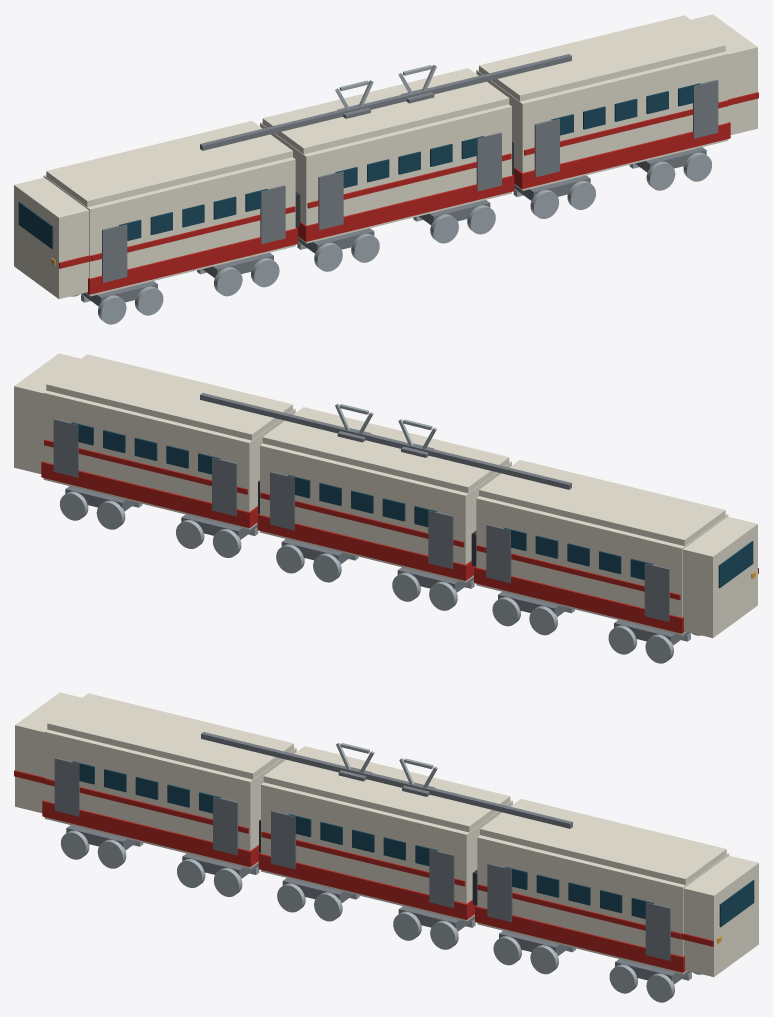
Rendered from CR400AF_emu.glb.
The picture shows the model from 3 angles, top to bottom: view 1: azimuth 30°, elevation 25°; view 2: azimuth 150°, elevation 25°; view 3: azimuth 330°, elevation 25°; orthographic projection.
Parts seen in each view (by area): view 1: CR400AF_Car_Body_03, CR400AF_Car_Body_02, CR400AF_Car_Body_01, CR400AF_Roof_01, CR400AF_Roof_03, CR400AF_Roof_02, CR400AF_Nose_Front, CR400AF_Nose_Rear, CR400AF_Car_Lower_Skirt_03, CR400AF_Car_Lower_Skirt_02, CR400AF_Car_Lower_Skirt_01, CR400AF_Roof_Main_Bus (+28 smaller); view 2: CR400AF_Car_Body_03, CR400AF_Car_Body_02, CR400AF_Car_Body_01, CR400AF_Roof_01, CR400AF_Roof_03, CR400AF_Roof_02, CR400AF_Nose_Front, CR400AF_Nose_Rear, CR400AF_Car_Lower_Skirt_03, CR400AF_Car_Lower_Skirt_02, CR400AF_Car_Lower_Skirt_01, CR400AF_Roof_Main_Bus (+28 smaller); view 3: CR400AF_Car_Body_01, CR400AF_Car_Body_02, CR400AF_Car_Body_03, CR400AF_Roof_03, CR400AF_Roof_01, CR400AF_Roof_02, CR400AF_Nose_Rear, CR400AF_Nose_Front, CR400AF_Car_Lower_Skirt_01, CR400AF_Car_Lower_Skirt_02, CR400AF_Car_Lower_Skirt_03, CR400AF_Roof_Main_Bus (+28 smaller).
Part boxes in pixels (<box>): CR400AF_Car_Body_03: <box>476,51,728,190</box>; CR400AF_Car_Body_02: <box>260,104,511,243</box>; CR400AF_Car_Body_01: <box>43,157,295,296</box>; CR400AF_Roof_01: <box>46,121,292,206</box>; CR400AF_Roof_03: <box>479,15,725,101</box>; CR400AF_Roof_02: <box>262,68,509,154</box>; CR400AF_Nose_Front: <box>14,177,89,298</box>; CR400AF_Nose_Rear: <box>691,14,757,134</box>; CR400AF_Car_Lower_Skirt_03: <box>513,122,730,188</box>; CR400AF_Car_Lower_Skirt_02: <box>296,174,514,241</box>; CR400AF_Car_Lower_Skirt_01: <box>87,227,297,294</box>; CR400AF_Roof_Main_Bus: <box>200,54,571,150</box>; CR400AF_Car_Body_03: <box>43,390,295,529</box>; CR400AF_Car_Body_02: <box>260,443,511,582</box>; CR400AF_Car_Body_01: <box>476,496,728,635</box>; CR400AF_Roof_01: <box>479,460,725,545</box>; CR400AF_Roof_03: <box>46,354,292,440</box>; CR400AF_Roof_02: <box>262,407,509,493</box>; CR400AF_Nose_Front: <box>682,516,757,637</box>; CR400AF_Nose_Rear: <box>14,353,80,473</box>; CR400AF_Car_Lower_Skirt_03: <box>41,461,258,527</box>; CR400AF_Car_Lower_Skirt_02: <box>257,513,475,580</box>; CR400AF_Car_Lower_Skirt_01: <box>474,566,684,633</box>; CR400AF_Roof_Main_Bus: <box>200,393,571,489</box>; CR400AF_Car_Body_01: <box>44,729,296,868</box>; CR400AF_Car_Body_02: <box>261,782,512,921</box>; CR400AF_Car_Body_03: <box>477,835,729,974</box>; CR400AF_Roof_03: <box>480,799,726,884</box>; CR400AF_Roof_01: <box>47,693,293,779</box>; CR400AF_Roof_02: <box>263,746,510,832</box>; CR400AF_Nose_Rear: <box>683,855,758,976</box>; CR400AF_Nose_Front: <box>15,692,81,812</box>; CR400AF_Car_Lower_Skirt_01: <box>42,800,259,866</box>; CR400AF_Car_Lower_Skirt_02: <box>258,852,476,919</box>; CR400AF_Car_Lower_Skirt_03: <box>475,905,685,972</box>; CR400AF_Roof_Main_Bus: <box>201,732,572,828</box>.
Size of the model in its own units: 26.58 by 5.83 by 3.23.
